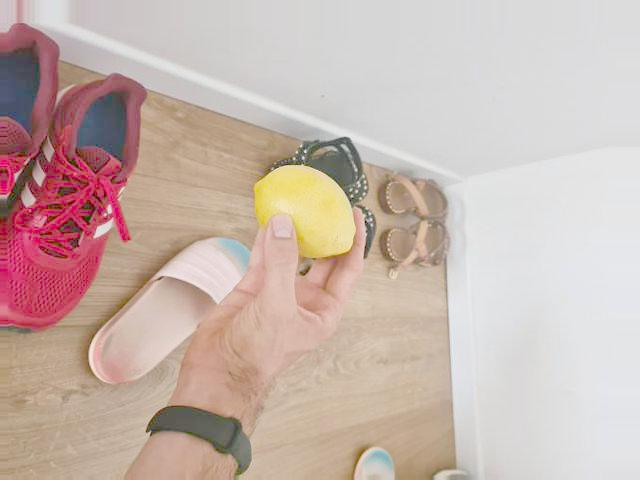lemon: (251, 168, 355, 259)
